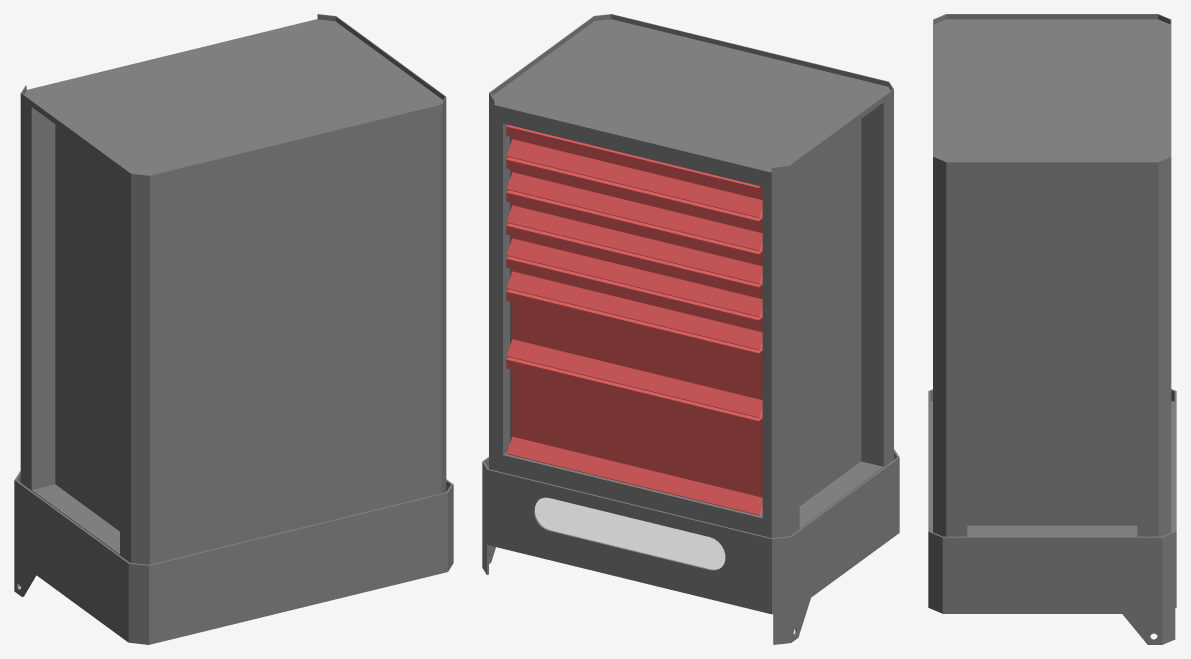
The model's file is chassis_v4.dae.
3 views of the same model, side by side, from view 1: azimuth 30°, elevation 25°; view 2: azimuth 150°, elevation 25°; view 3: azimuth 270°, elevation 25° (orthographic). The views are drawn at different scales.
Visible parts, largest first — view 1: chassis_v4; view 2: chassis_v4; view 3: chassis_v4.
Part boxes in pixels (box(x1,y1,x2,y2)): chassis_v4: box(14, 14, 453, 644); chassis_v4: box(482, 14, 899, 644); chassis_v4: box(928, 14, 1176, 644).
Size of the model in its own units: 0.688 by 0.473 by 1.01.
